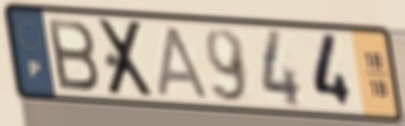4: (309, 29, 359, 113), (258, 27, 307, 111)
9: (204, 26, 251, 103)
A: (155, 24, 212, 102)
B: (44, 16, 102, 94)
X: (95, 17, 158, 100)
